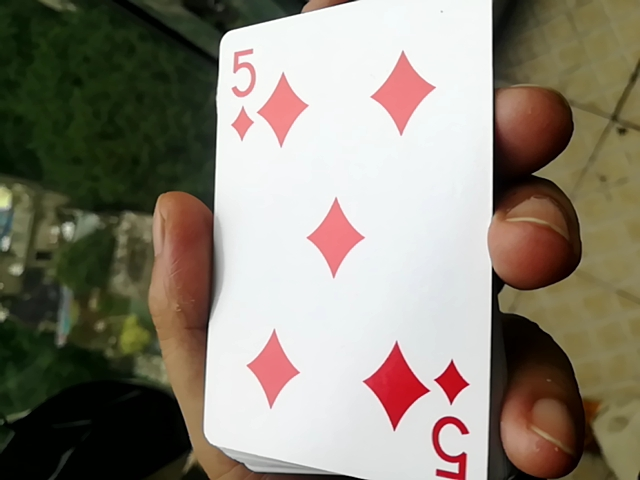fk 5: (193, 0, 493, 480)
